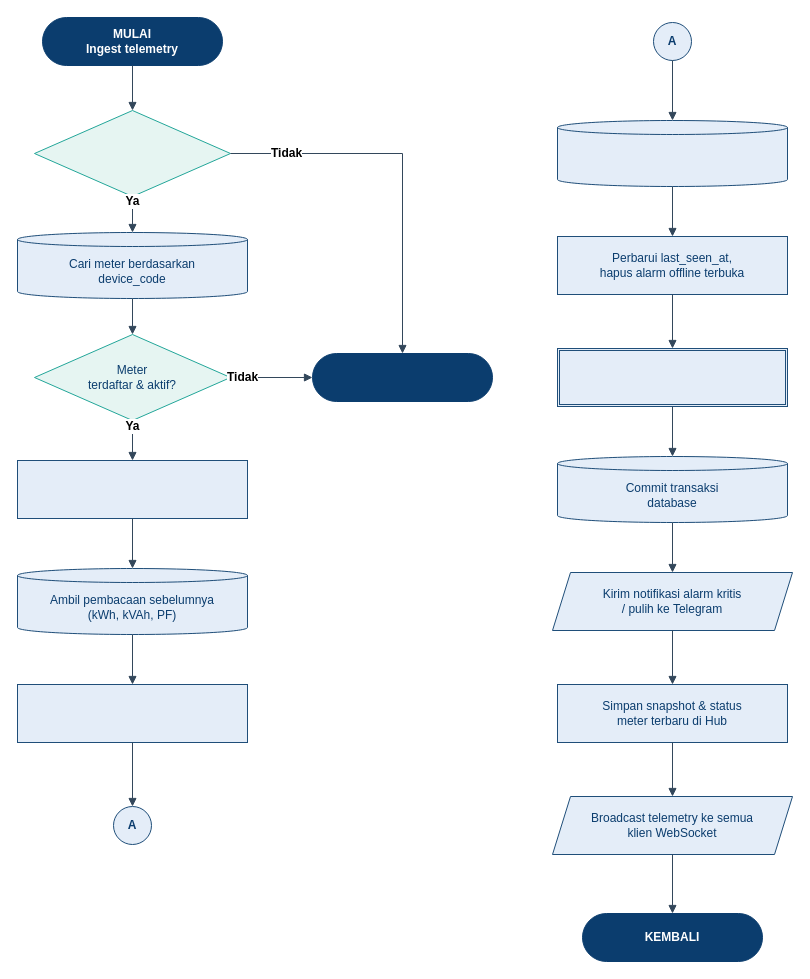
This 810x979 diagram has some shape labels left out. Each missing label, with the box of its shape:
device_code ada?: (34, 110, 230, 196)
Evaluasi alarm (delay & hysteresis): (556, 348, 788, 406)
Hitung PF; integrasikan kVAh ΔkWh / PF rata-rata: (16, 684, 248, 742)
INSERT readings & phase_readings (duplikat diabaikan): (556, 120, 788, 186)
KEMBALI (diabaikan): (312, 352, 492, 402)
Parse timestamp (kosong → waktu sekarang UTC): (16, 460, 248, 518)
